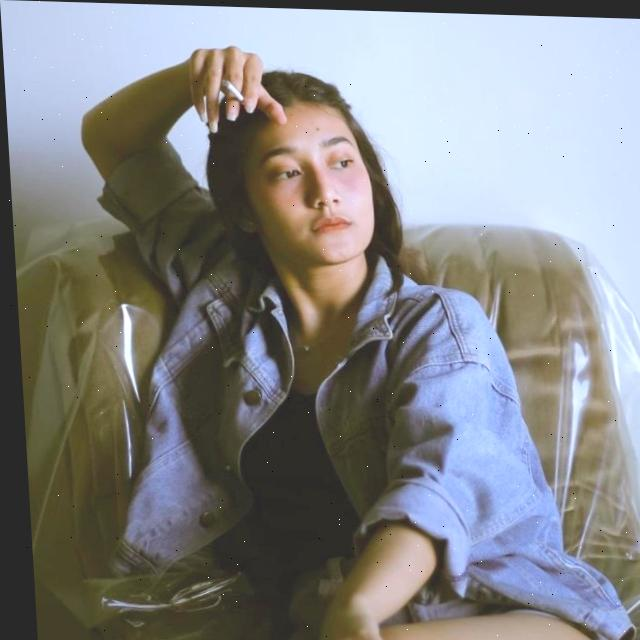cigarette: (220, 78, 244, 103)
